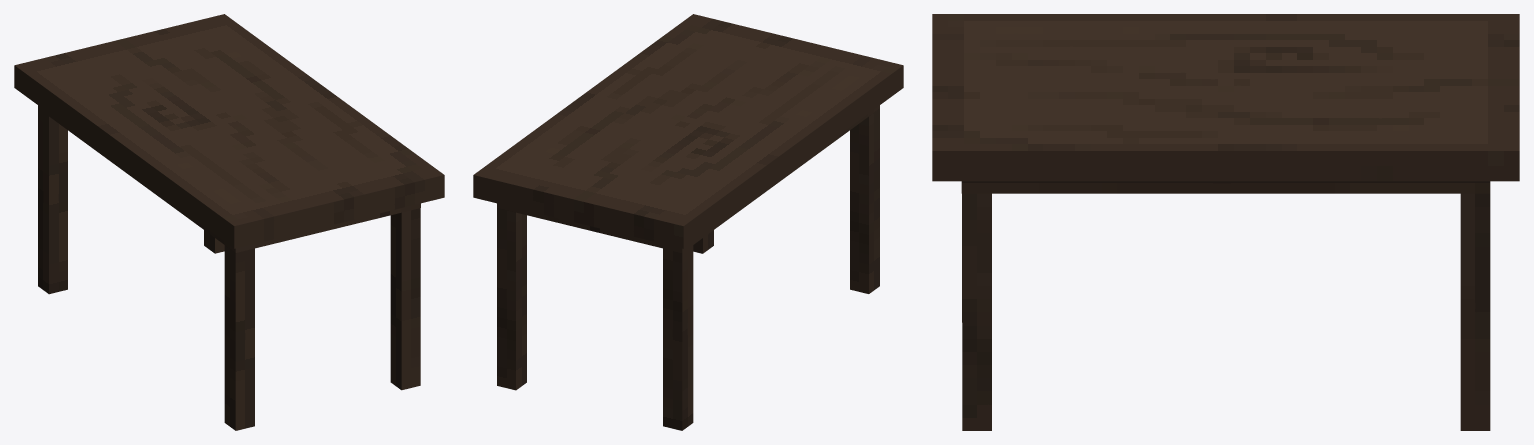
File: Table3.glb
3 renders of one model, left to right at view 1: azimuth 30°, elevation 25°; view 2: azimuth 150°, elevation 25°; view 3: azimuth 270°, elevation 25°, orthographic. The views are drawn at different scales.
Visible parts, largest first — view 1: Cube.001_2; view 2: Cube.001_2; view 3: Cube.001_2.
Part boxes in pixels (x1,y1,x2,y2): Cube.001_2: (14,14,444,430); Cube.001_2: (473,14,903,430); Cube.001_2: (932,14,1519,430).
Size of the model in its own units: 3.14 by 3.08 by 5.68.
1 material, 1 textured.
